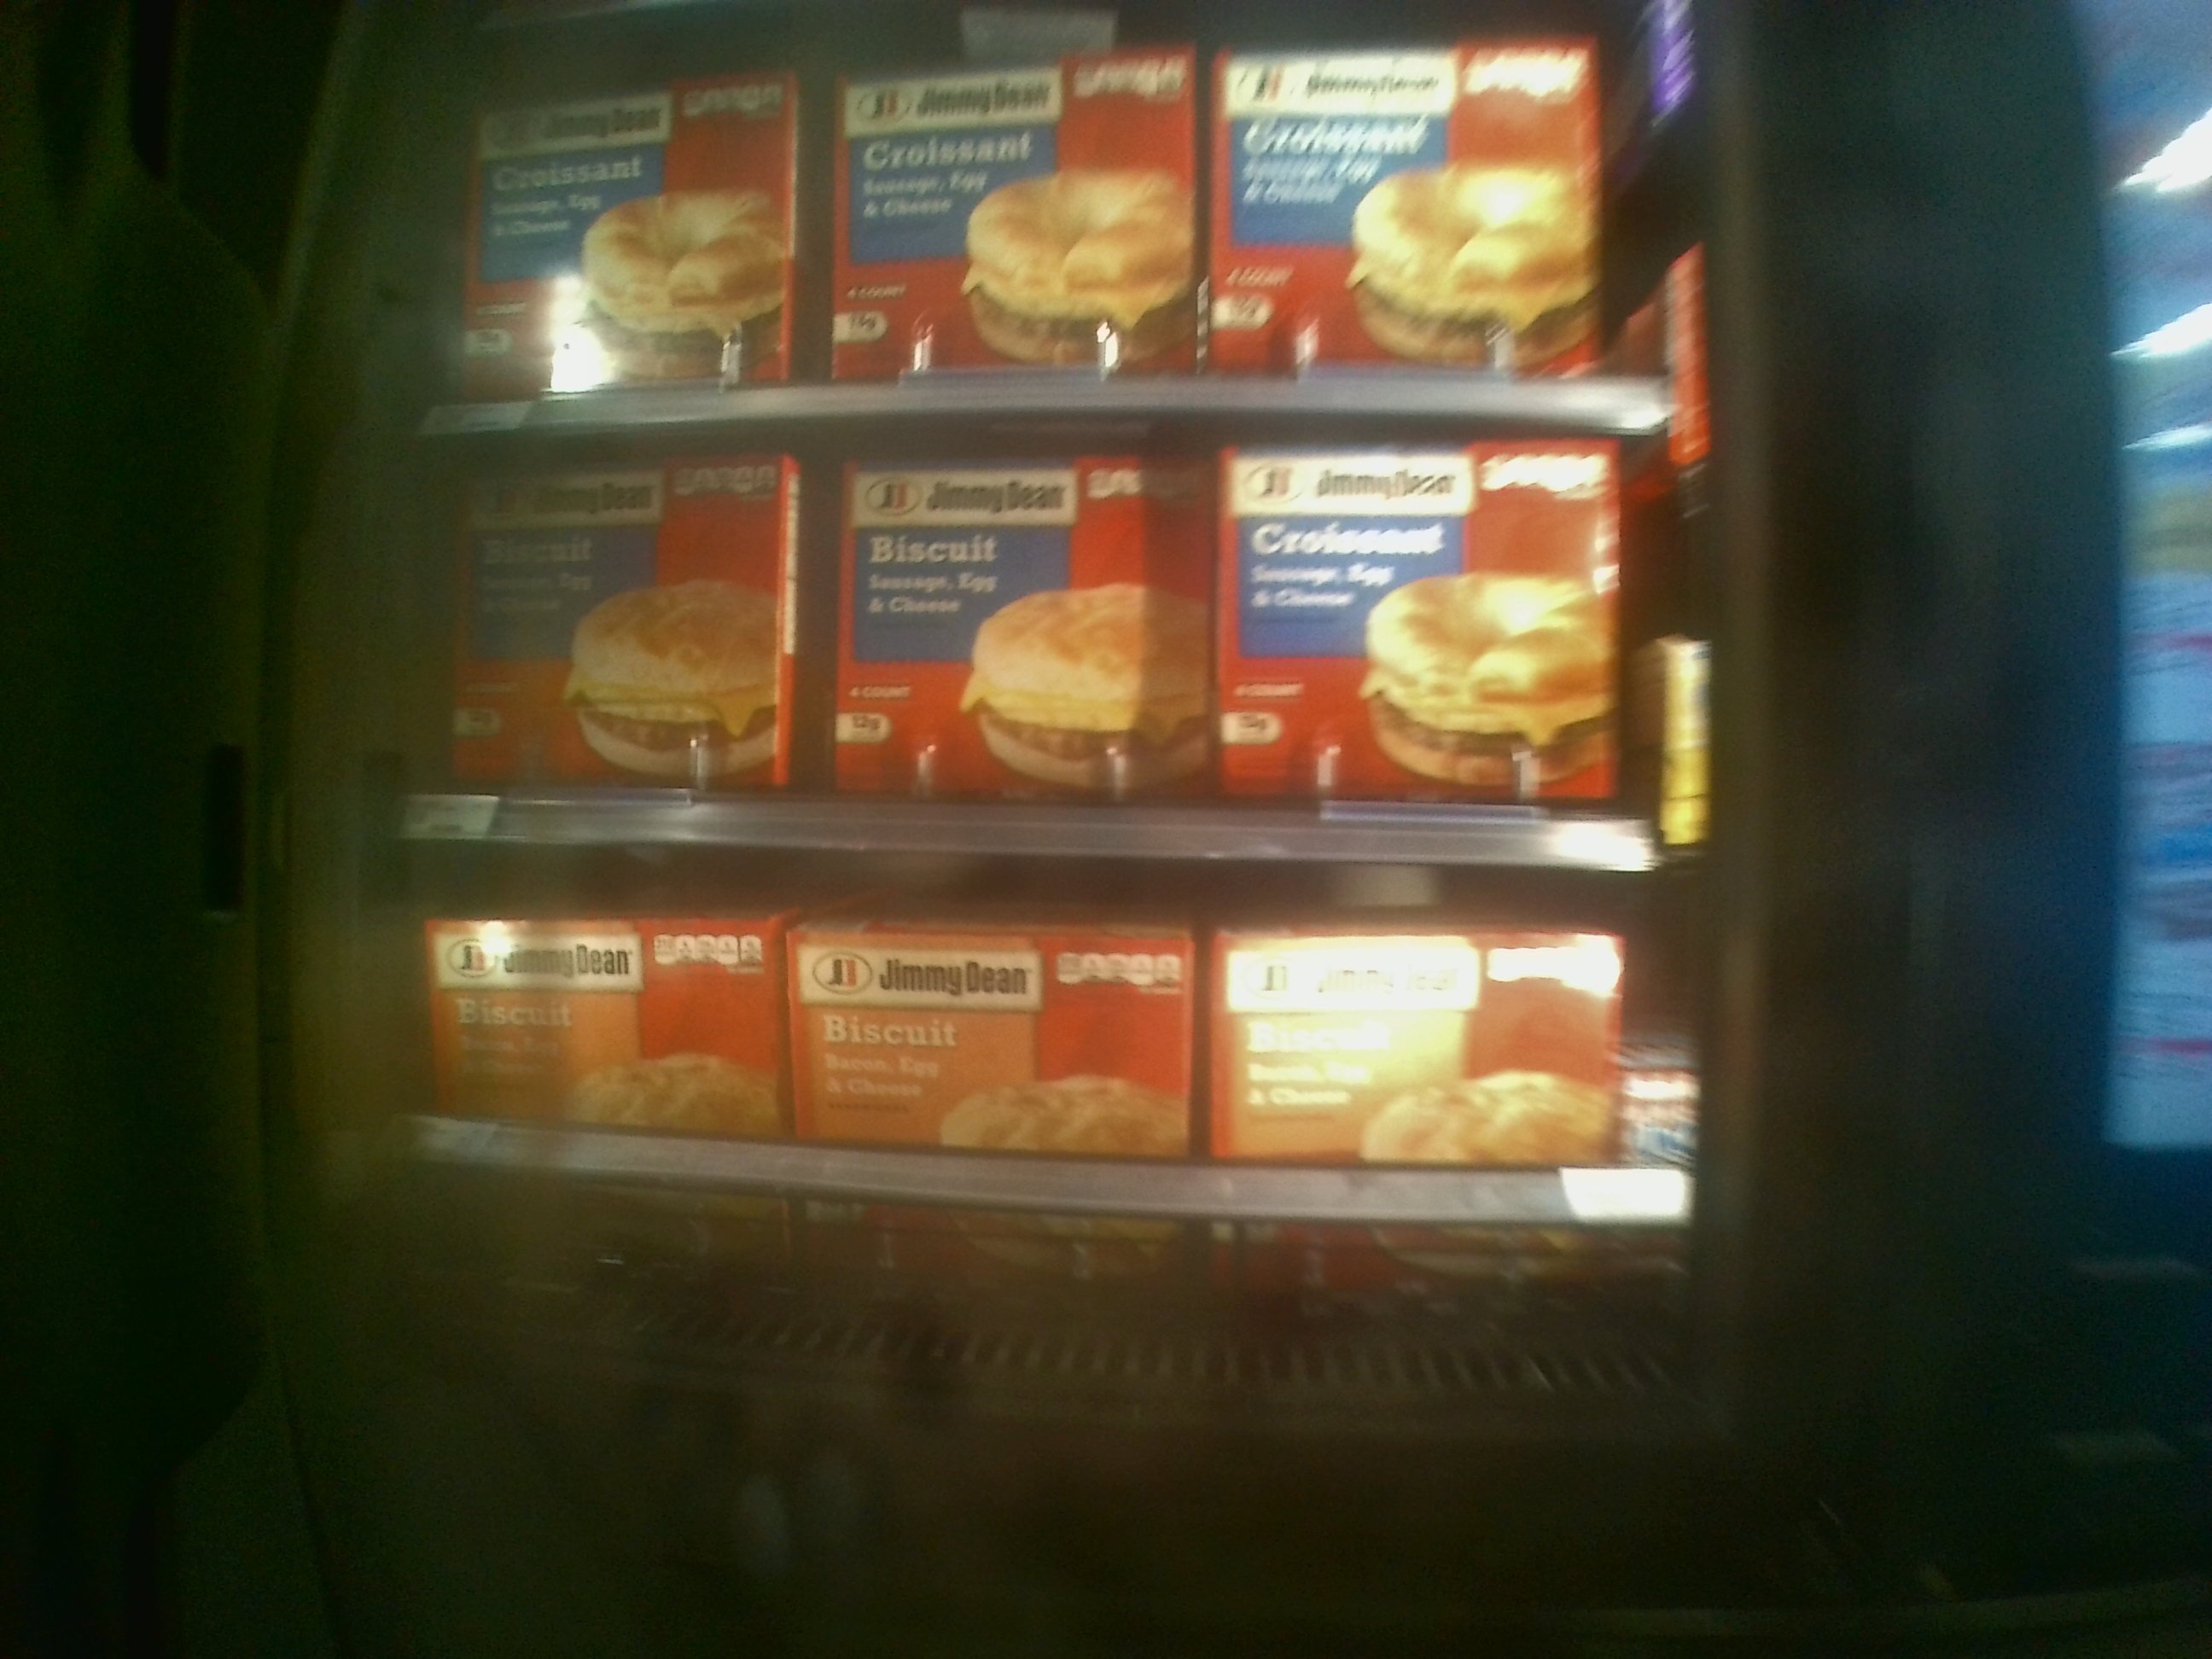shelf: (401, 842, 1689, 1328), (411, 415, 1702, 868)
